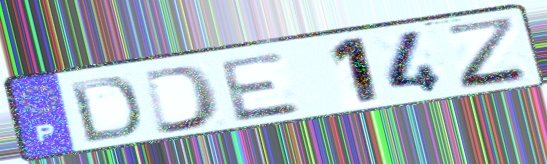1: (327, 34, 385, 109)
4: (381, 27, 452, 100)
D: (139, 62, 223, 137), (65, 75, 144, 146)
E: (215, 49, 305, 125)
Z: (442, 14, 534, 92)
